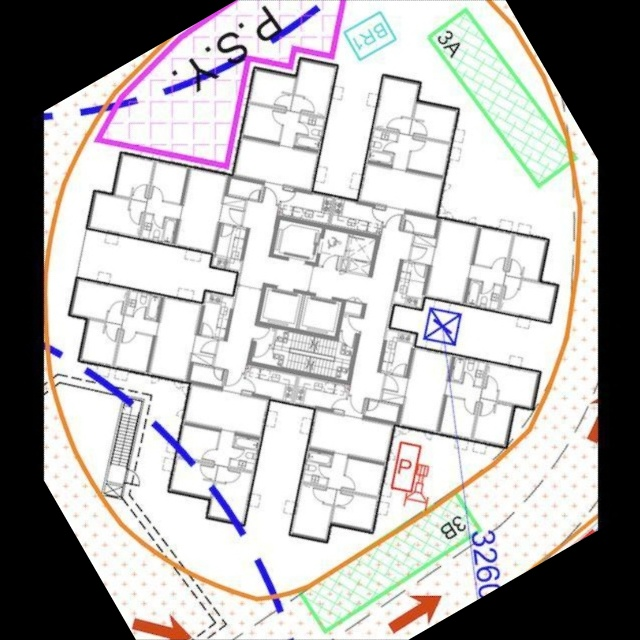tower_crane: (420, 305, 464, 351)
